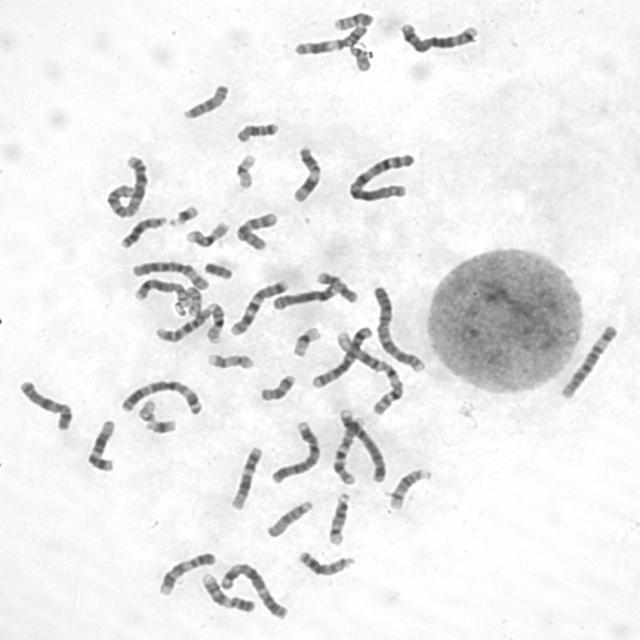A1: (332, 327, 407, 416), (345, 149, 417, 203)
A2: (369, 281, 427, 374), (102, 152, 150, 220)
A3: (217, 559, 290, 621), (117, 377, 205, 417)
B4: (335, 405, 390, 484), (267, 416, 322, 484)
B5: (309, 322, 375, 390), (396, 18, 481, 54)
C10: (151, 304, 214, 344), (232, 208, 280, 252)
C11: (290, 21, 370, 56), (288, 143, 323, 204)
C12: (227, 443, 264, 511), (83, 416, 118, 473)
C6: (557, 320, 620, 400), (129, 257, 211, 292)
C7: (227, 276, 290, 337), (328, 412, 368, 486)
C8: (131, 275, 191, 311), (268, 281, 339, 311)
C9: (155, 549, 217, 597), (197, 569, 257, 614)
D13: (116, 213, 170, 250), (295, 548, 356, 578)
D14: (386, 465, 434, 511), (324, 488, 352, 546)
D15: (262, 496, 316, 539), (180, 81, 231, 121)
E16: (182, 217, 231, 248), (202, 299, 226, 344)
E17: (312, 268, 360, 304), (204, 350, 256, 371)
E18: (256, 371, 298, 402), (232, 119, 280, 145)
F19: (289, 323, 323, 358), (232, 150, 258, 190)
F20: (331, 8, 375, 32), (183, 282, 203, 317)
G21: (165, 201, 201, 228), (141, 416, 178, 435)
G22: (347, 42, 373, 72), (134, 396, 160, 424)
X: (14, 376, 75, 432)
Y: (200, 259, 234, 281)
